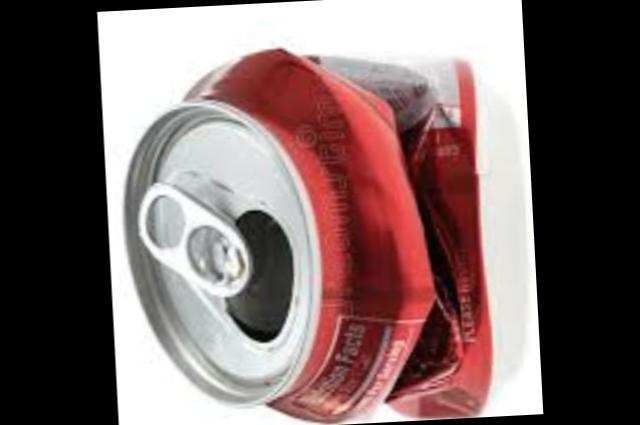metal: (121, 52, 486, 425)
